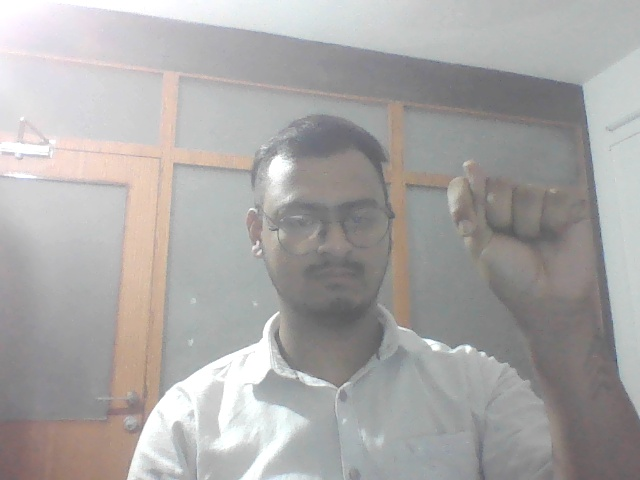Toilet: (438, 154, 627, 316)
